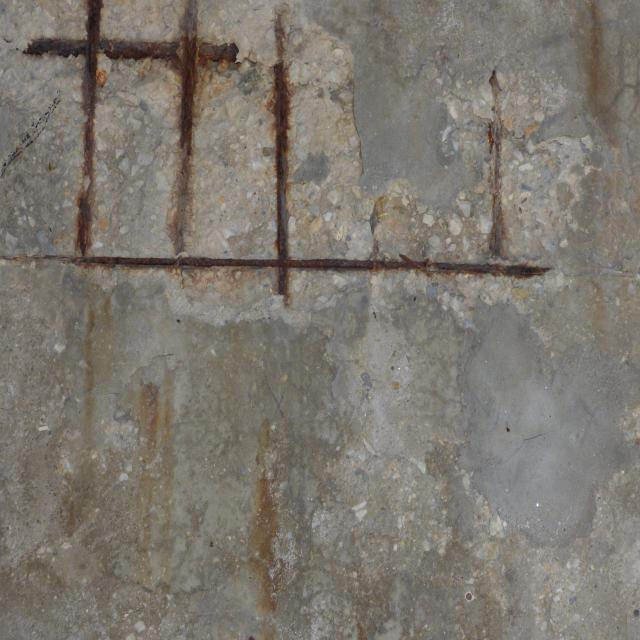corrosion: (0, 0, 624, 311), (53, 320, 348, 636)
